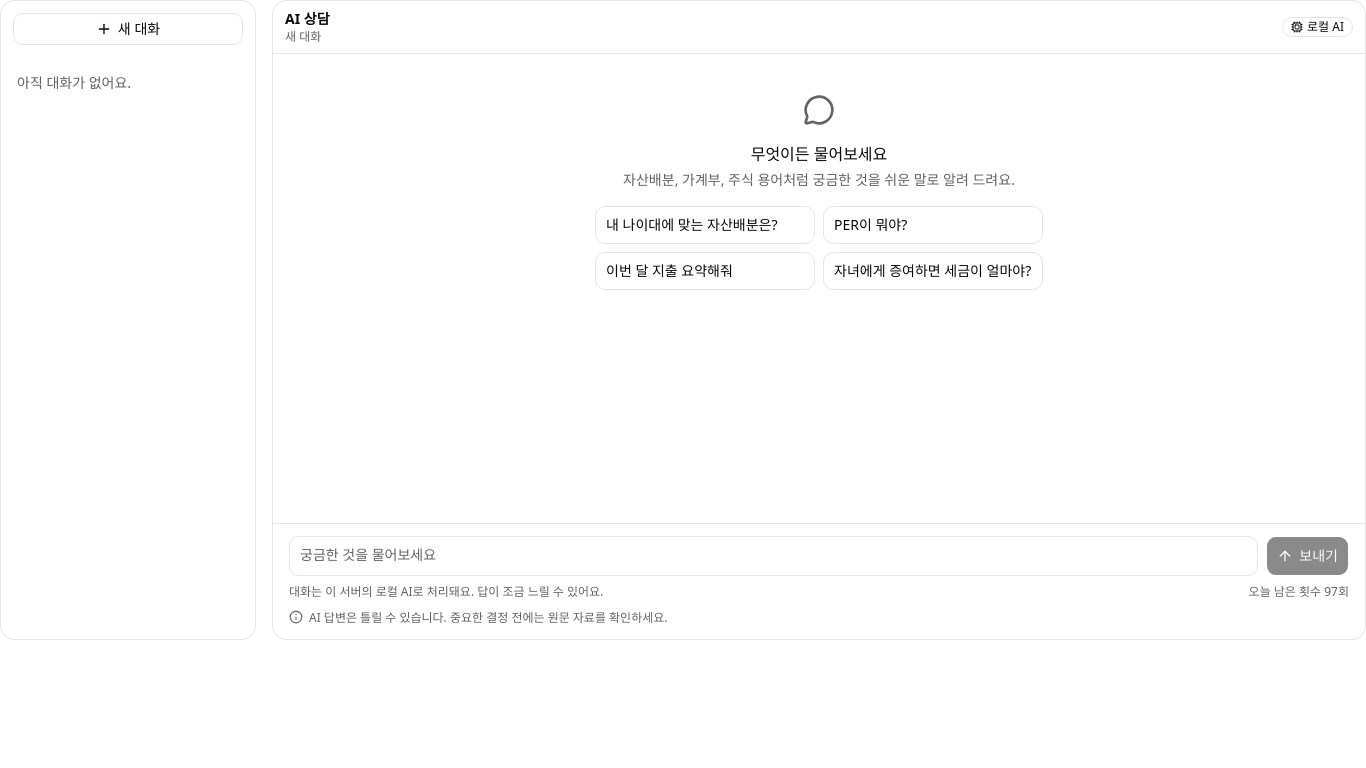
Test case: 메시지 주고받기 › 상한 429는 안내로 바꾸고 입력을 돌려준다
This screenshot has width=1366, height=768.
Type "질문" into the text box named "질문 입력".
click(774, 556); type("질문")  # box [289,536,1258,576]
Then press Enter
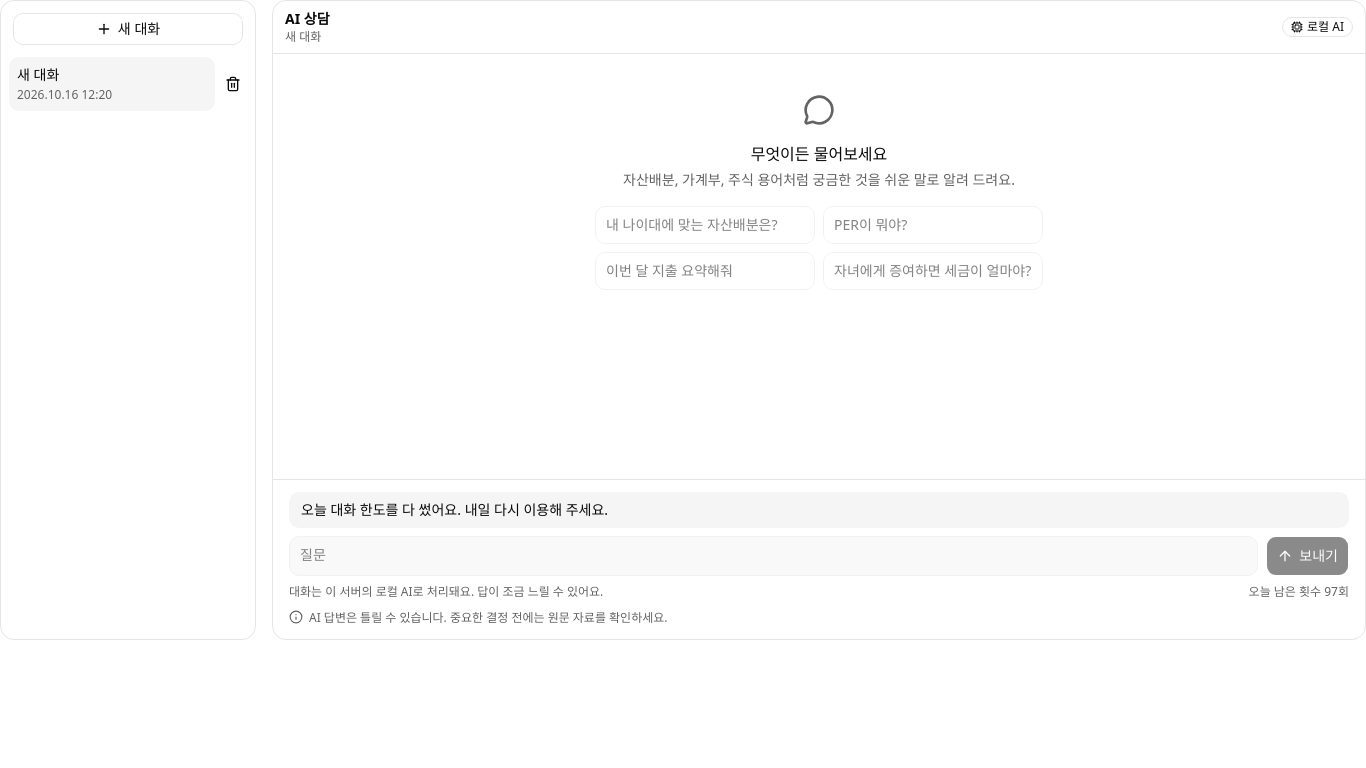
expect the text "오늘 대화 한도를 다 썼어요. 내일 다시 이용해 주세요." is shown: met, box [289,492,1349,528]
